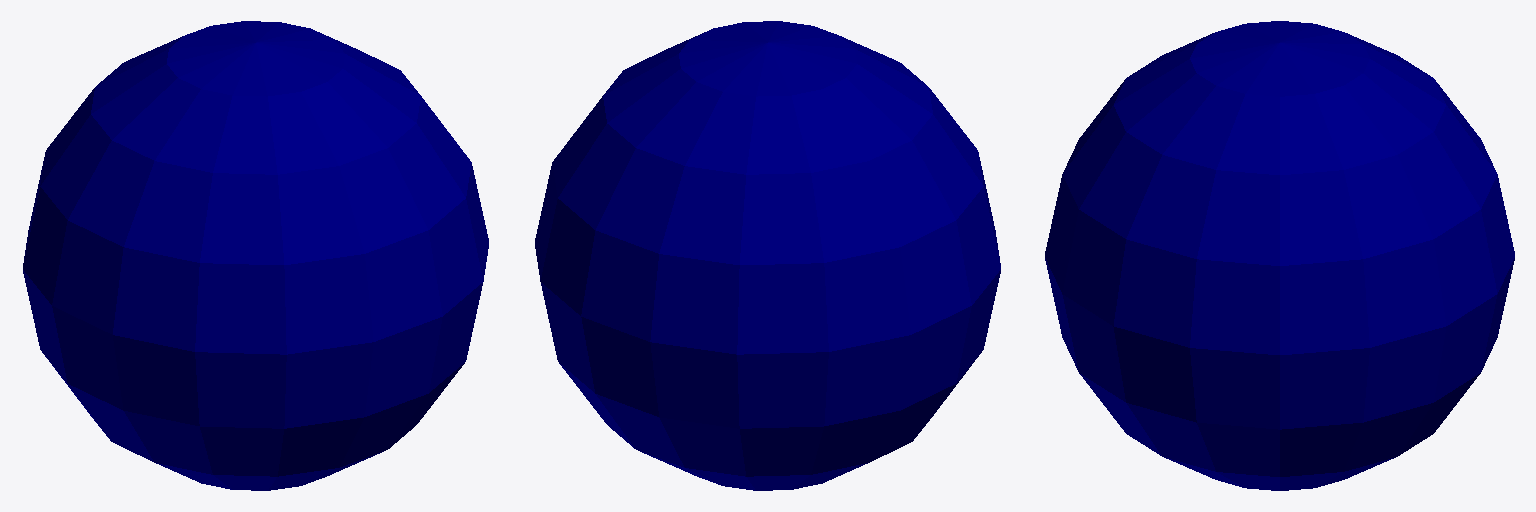
3 renders of one model, left to right at view 1: azimuth 30°, elevation 25°; view 2: azimuth 150°, elevation 25°; view 3: azimuth 270°, elevation 25°, orthographic.
Parts seen in each view (by area): view 1: sphere1; view 2: sphere1; view 3: sphere1.
Part boxes in pixels (x1,y1,x2,y2): sphere1: (23, 21, 488, 490); sphere1: (535, 21, 1000, 490); sphere1: (1045, 21, 1514, 490).
Size of the model in its own units: 2 by 2 by 2.